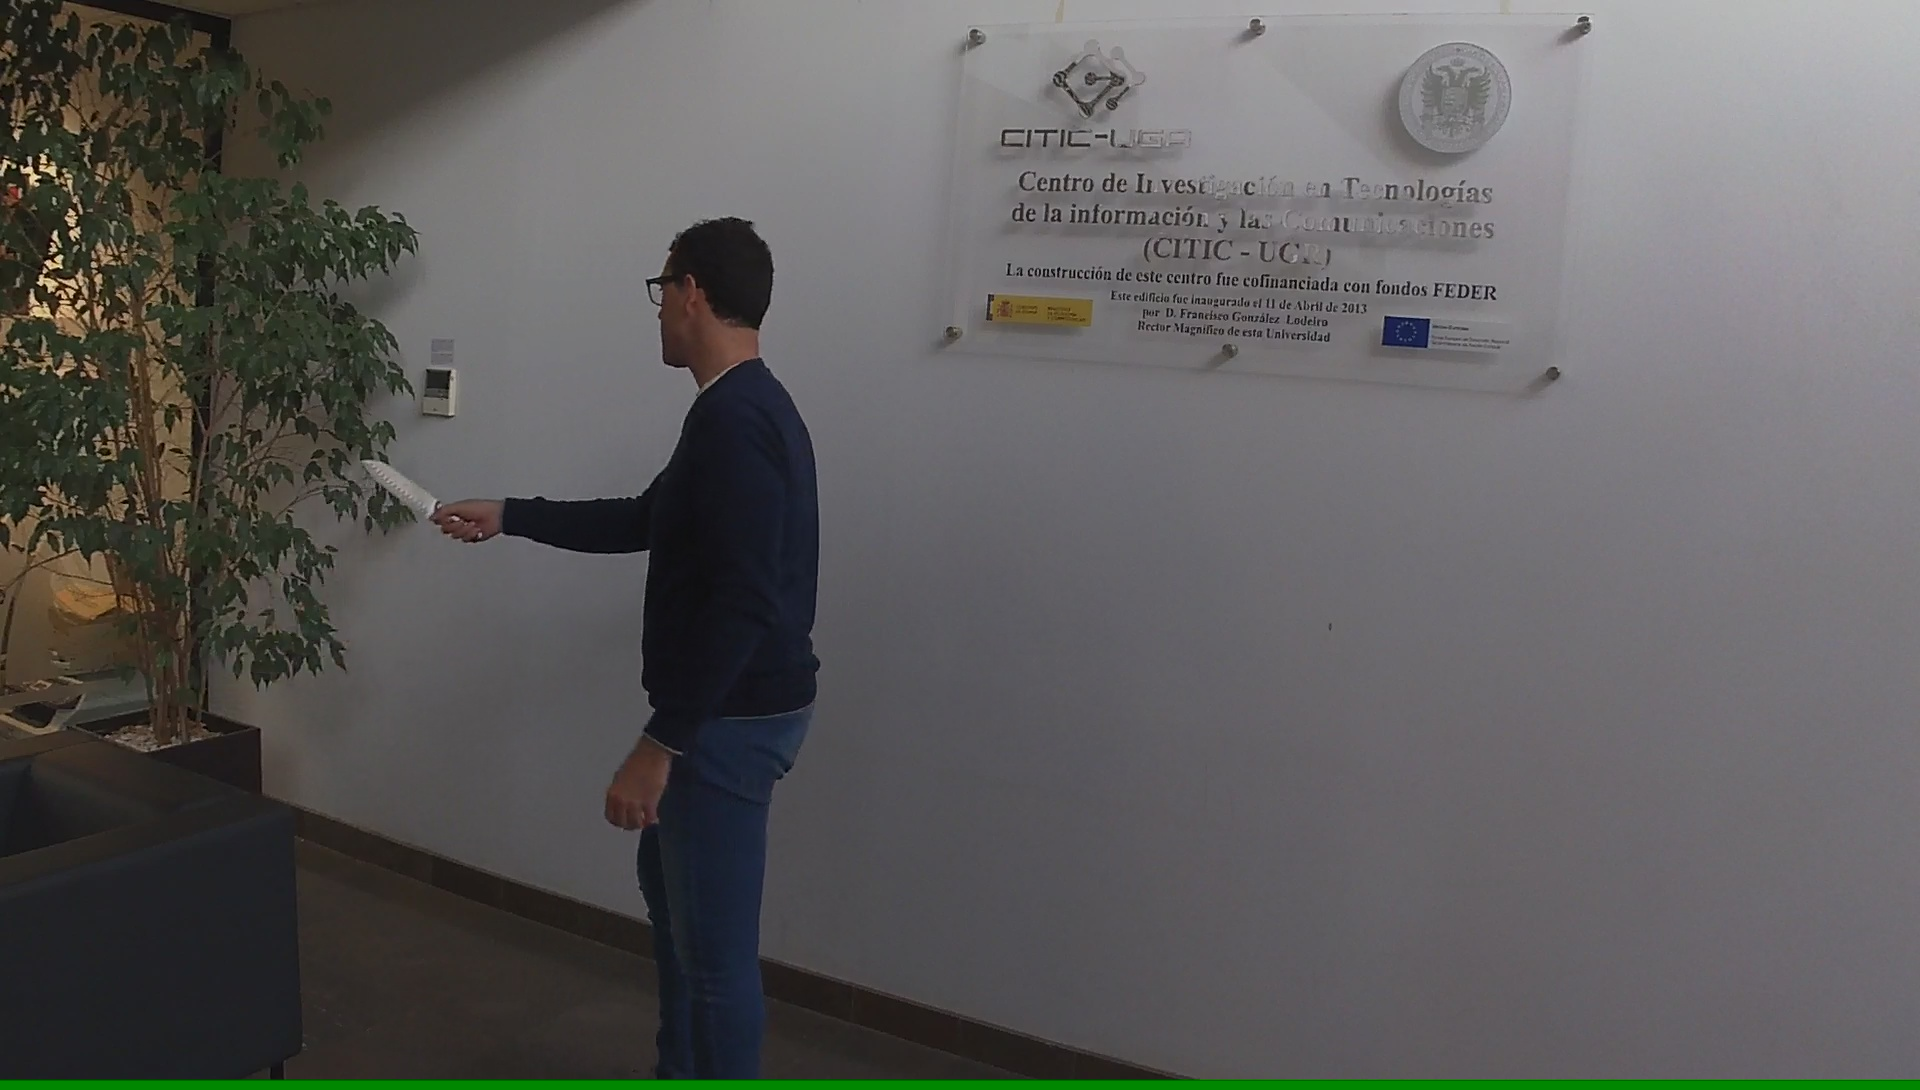knife: (353, 452, 489, 546)
